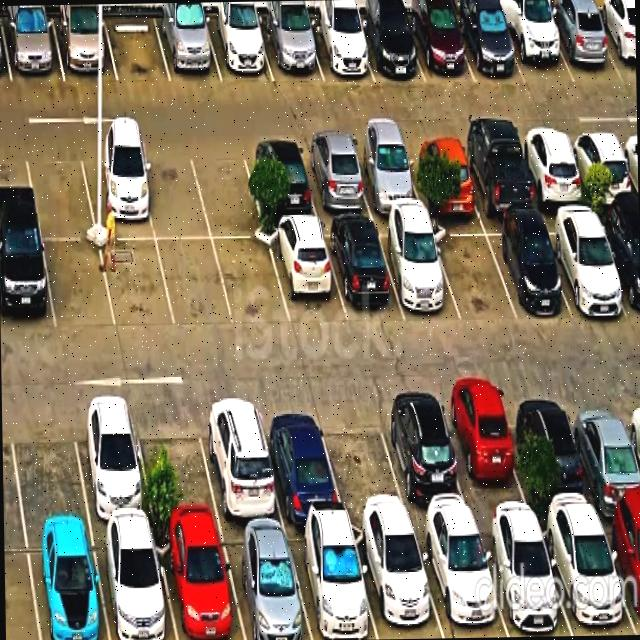empty: (441, 395, 533, 519), (317, 400, 410, 521), (132, 401, 220, 526), (7, 401, 89, 528), (429, 222, 516, 321), (188, 141, 265, 239), (137, 145, 211, 239), (156, 240, 233, 328), (100, 240, 175, 330), (24, 145, 96, 238), (213, 240, 290, 325), (43, 240, 115, 330), (104, 14, 171, 82)
occupied: (376, 397, 474, 522), (538, 515, 635, 636), (476, 520, 572, 637), (196, 397, 284, 524), (413, 521, 508, 638), (285, 524, 378, 640), (513, 393, 599, 518), (257, 400, 345, 522), (351, 524, 444, 639), (219, 527, 312, 640), (70, 401, 154, 525), (154, 527, 244, 640), (92, 527, 177, 640), (25, 528, 108, 640), (540, 213, 629, 315), (566, 392, 640, 514), (482, 220, 570, 318), (375, 222, 461, 320), (267, 223, 347, 326), (322, 222, 404, 321), (78, 145, 155, 239), (457, 135, 537, 215), (242, 141, 318, 221), (404, 137, 480, 213), (298, 140, 373, 217), (498, 10, 574, 85), (544, 10, 623, 82), (349, 139, 424, 214), (516, 132, 589, 208), (0, 235, 55, 332), (566, 131, 638, 205), (453, 9, 525, 82), (405, 9, 475, 83), (599, 512, 640, 635), (354, 13, 425, 82), (595, 212, 640, 319), (204, 15, 274, 82), (154, 14, 222, 82), (304, 17, 374, 81), (52, 15, 117, 82), (1, 16, 64, 82), (258, 18, 323, 81), (593, 10, 636, 81)
